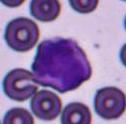M: (32, 36, 92, 91)
